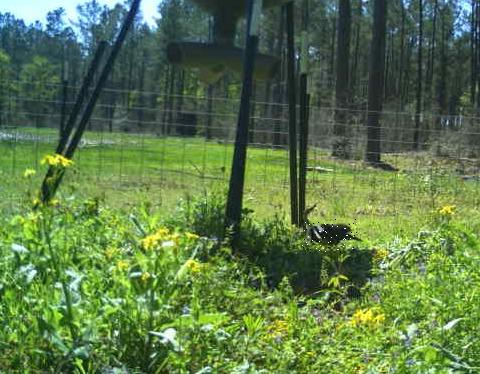Hog: (301, 219, 357, 253)
